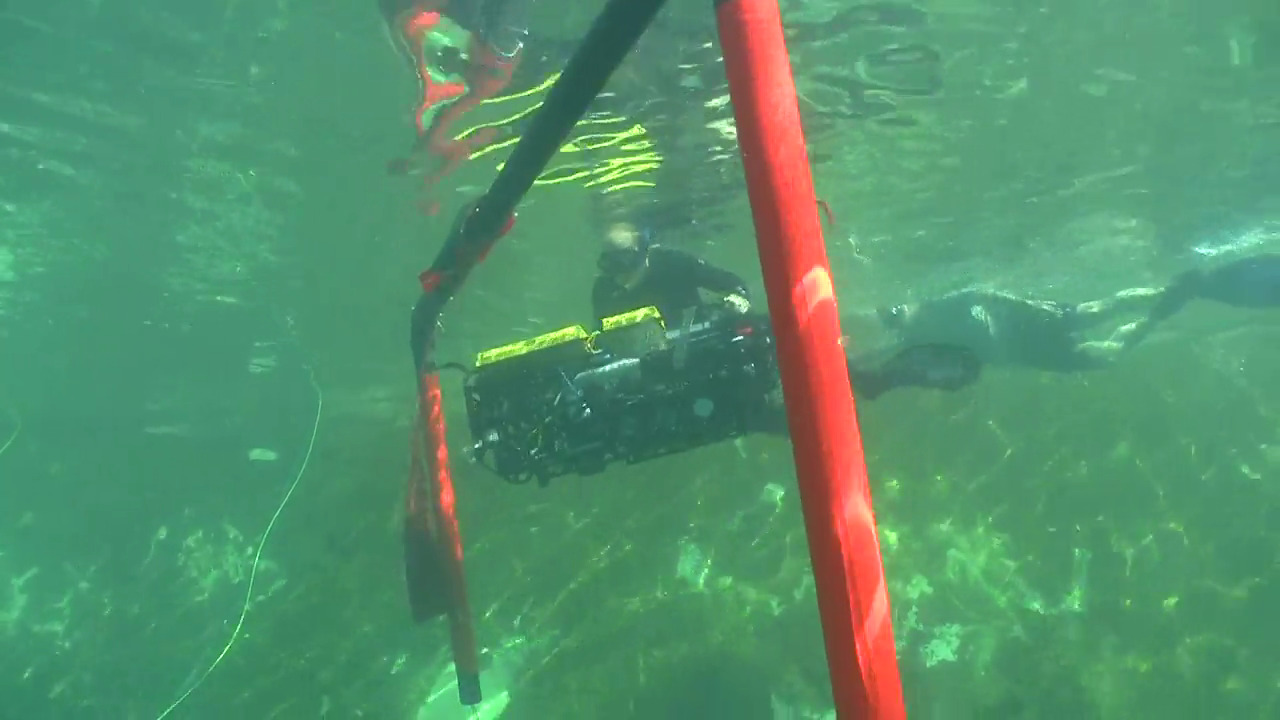gate: (396, 1, 920, 720)
